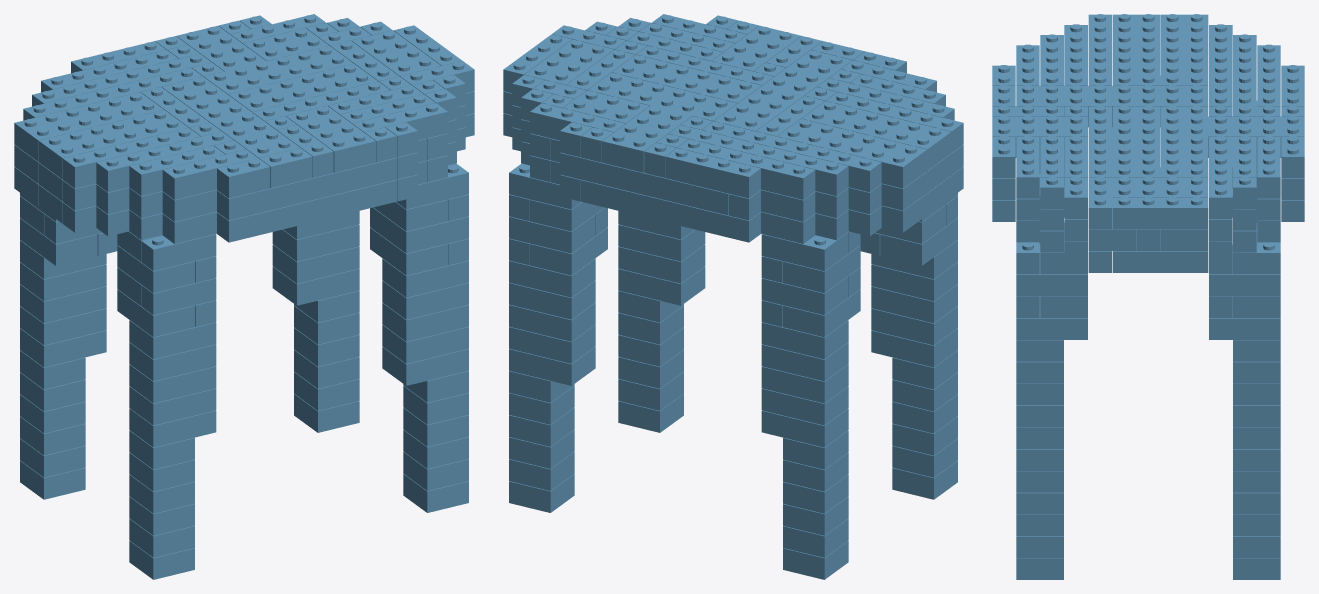
File: 225_table_L5.glb
3 renders of one model, left to right at view 1: azimuth 30°, elevation 25°; view 2: azimuth 150°, elevation 25°; view 3: azimuth 270°, elevation 25°, orthographic.
Bounding box in the file's own units: 18.98 × 18.13 × 12.98.
